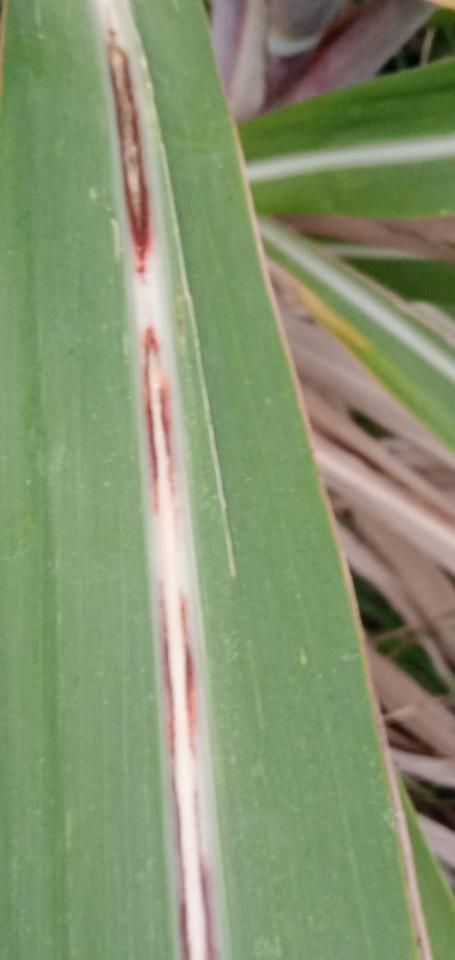RedRot: (159, 580, 214, 959), (106, 26, 152, 275), (145, 324, 177, 516)
Yellow: (290, 272, 372, 353)
